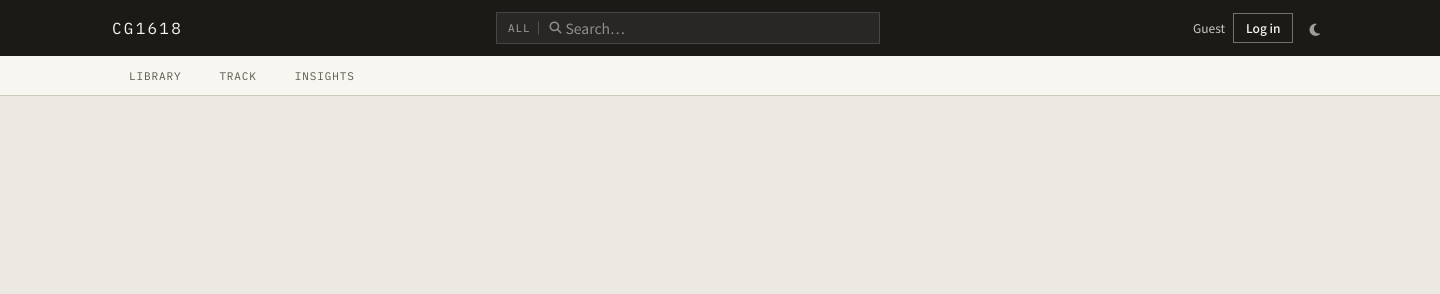
Nav panels › closes an open panel on Escape and returns focus to its tab
Click the button "Insights" at (325, 76), box [278, 56, 372, 96]
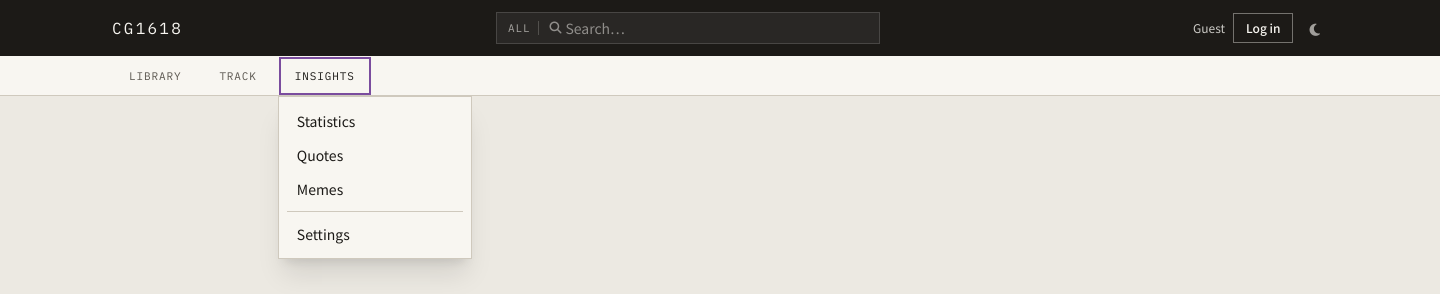
Now the button "Insights" is expanded, box [278, 56, 372, 96]
Press Escape
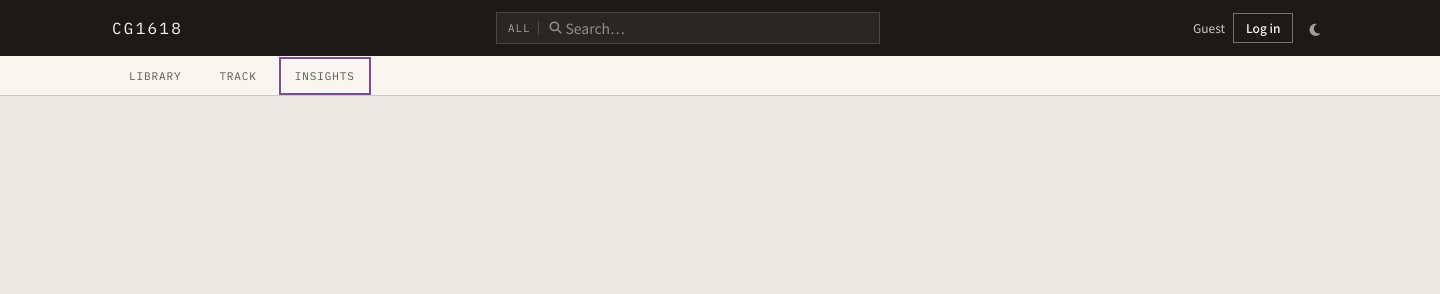
Now the button "Insights" is collapsed, box [278, 56, 372, 96]
